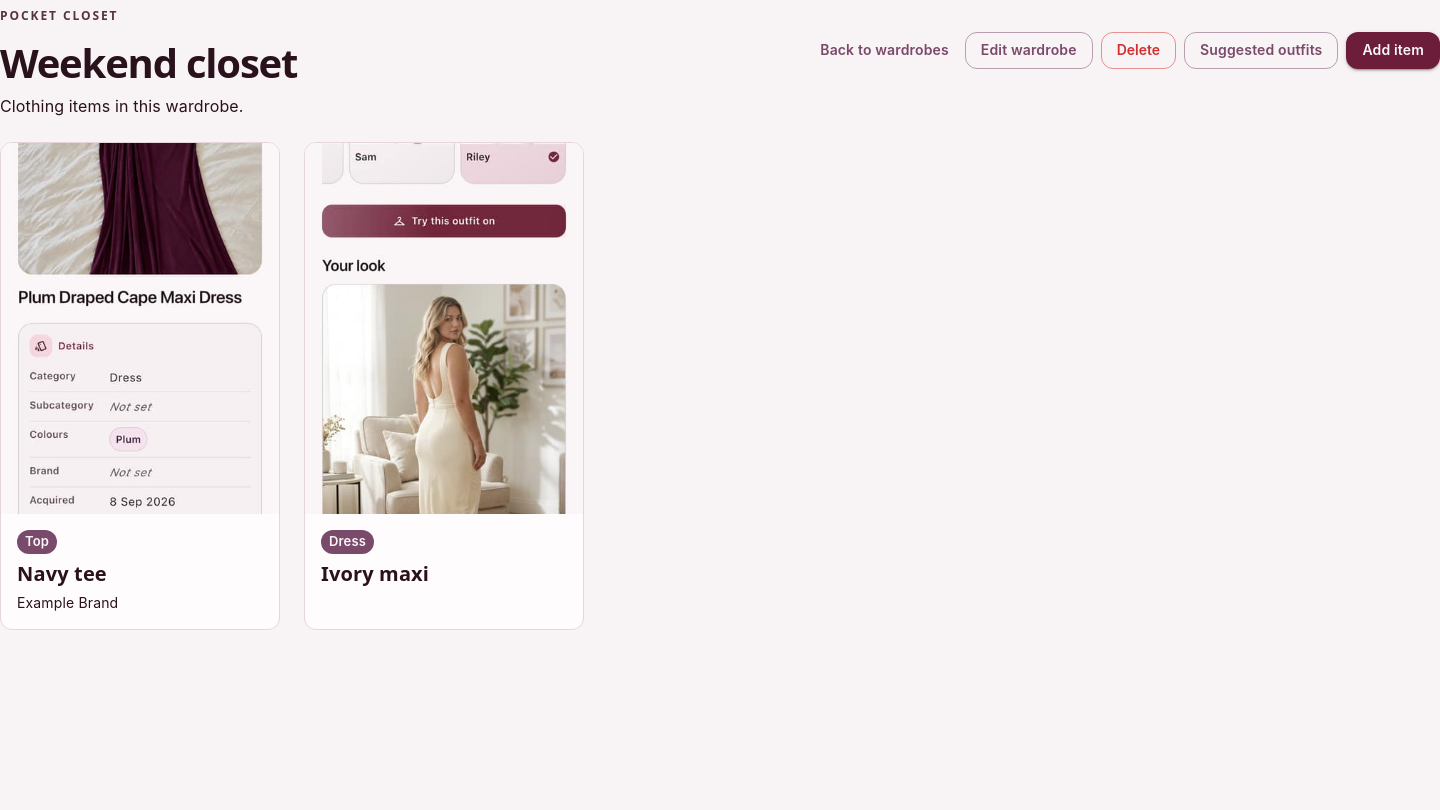
Test: WardrobeDetailPage › disables delete dialog buttons while delete is running
Click the button with aria-label "Delete this wardrobe". click: (1138, 50)
box: [1101,32,1176,68]
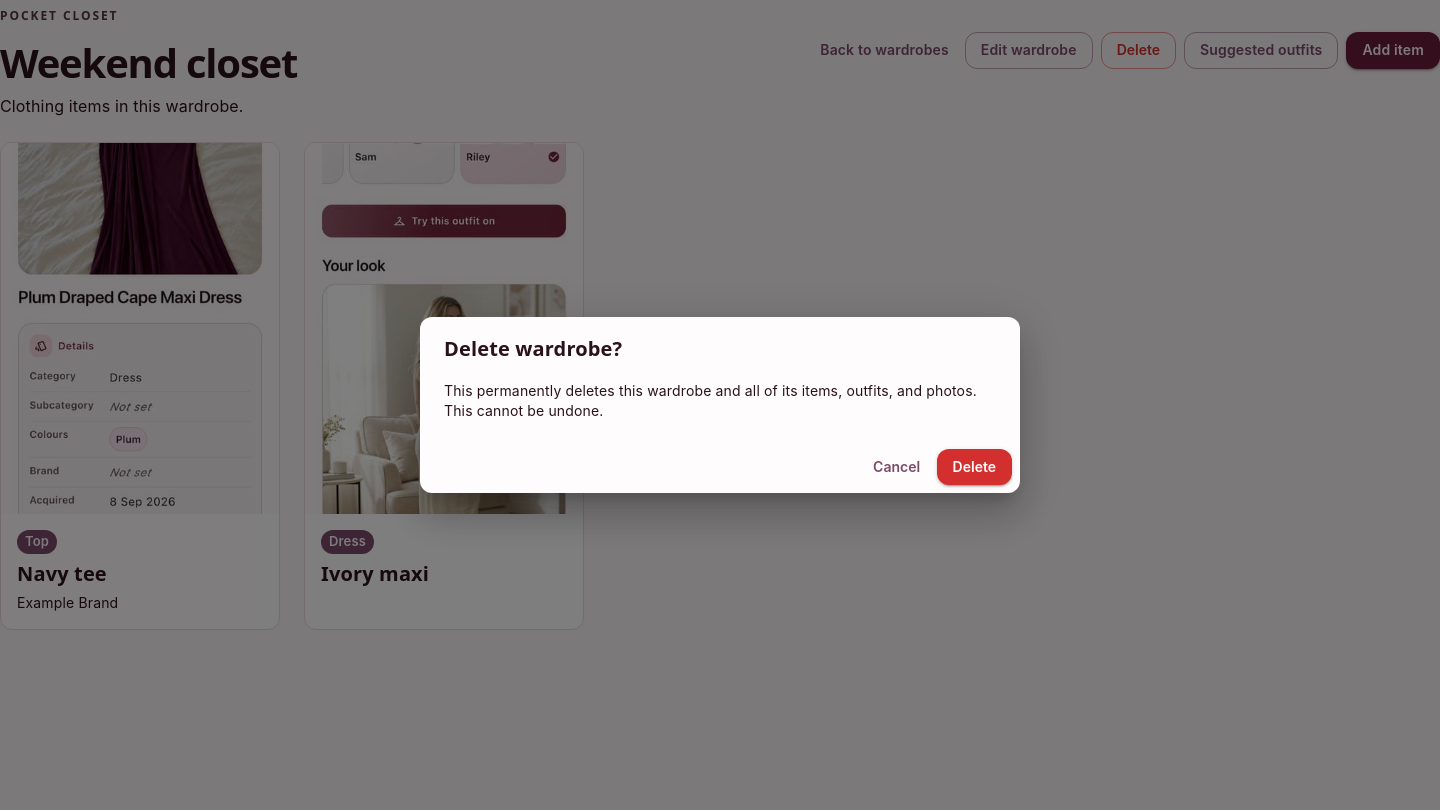
Click the button "Delete". click: (974, 467)
box: [937,449,1012,485]
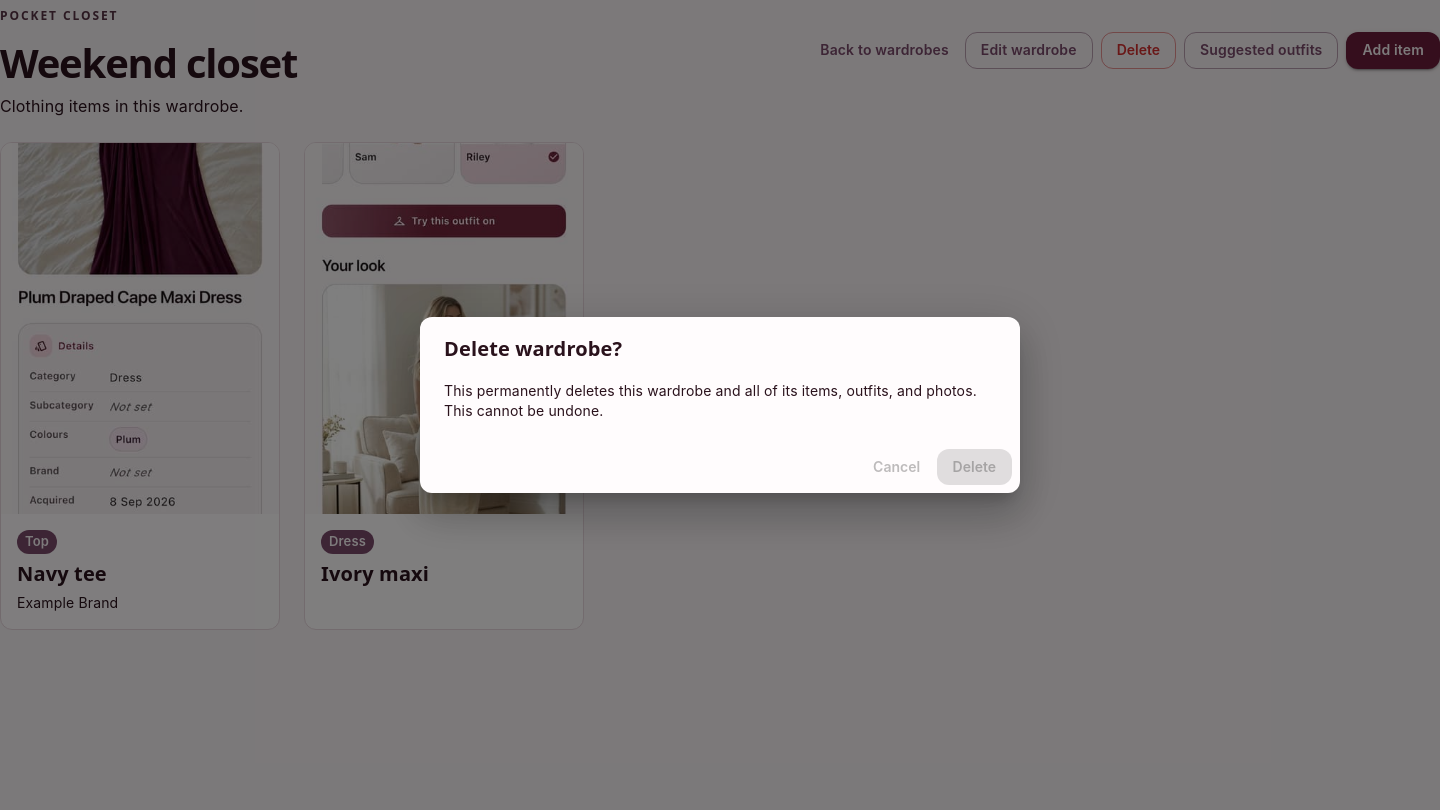
Check: the heading "Weekend closet" is shown, box [0,40,297,86]
Check: the button "Cancel" is disabled, box [865,449,929,485]
Check: the button "Delete" is disabled, box [937,449,1012,485]
